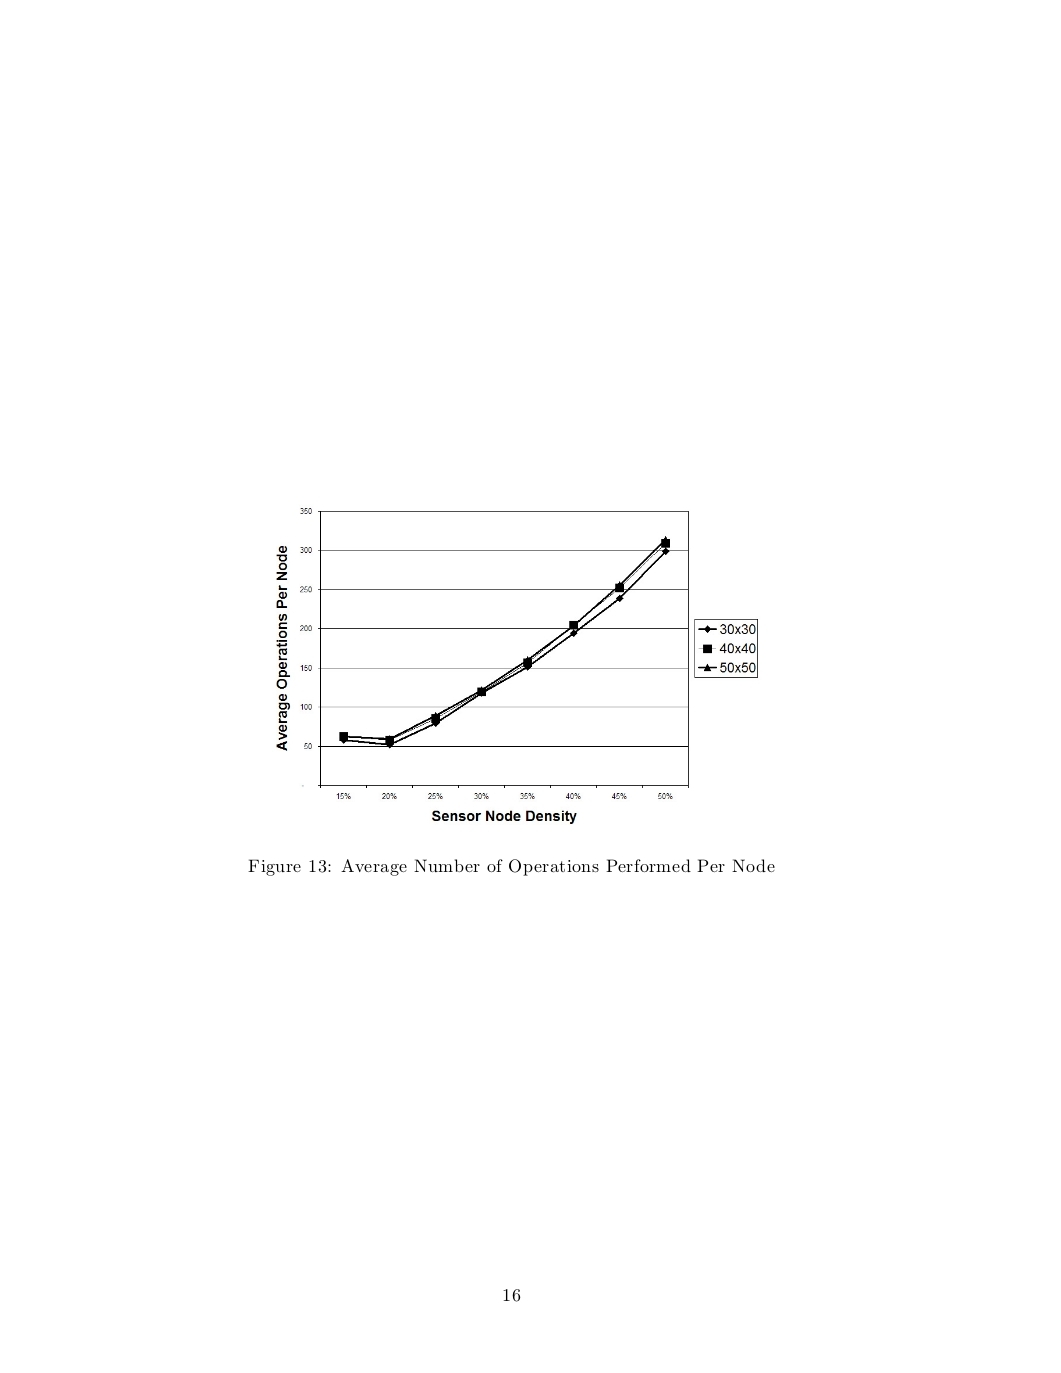figure: (276, 508, 757, 822)
